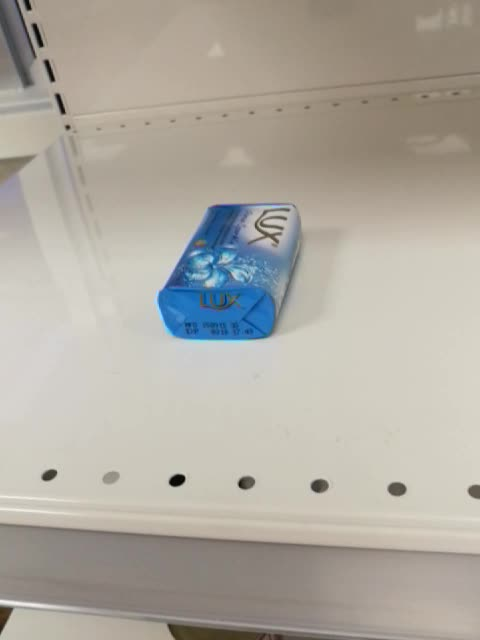soap: (156, 201, 304, 342)
